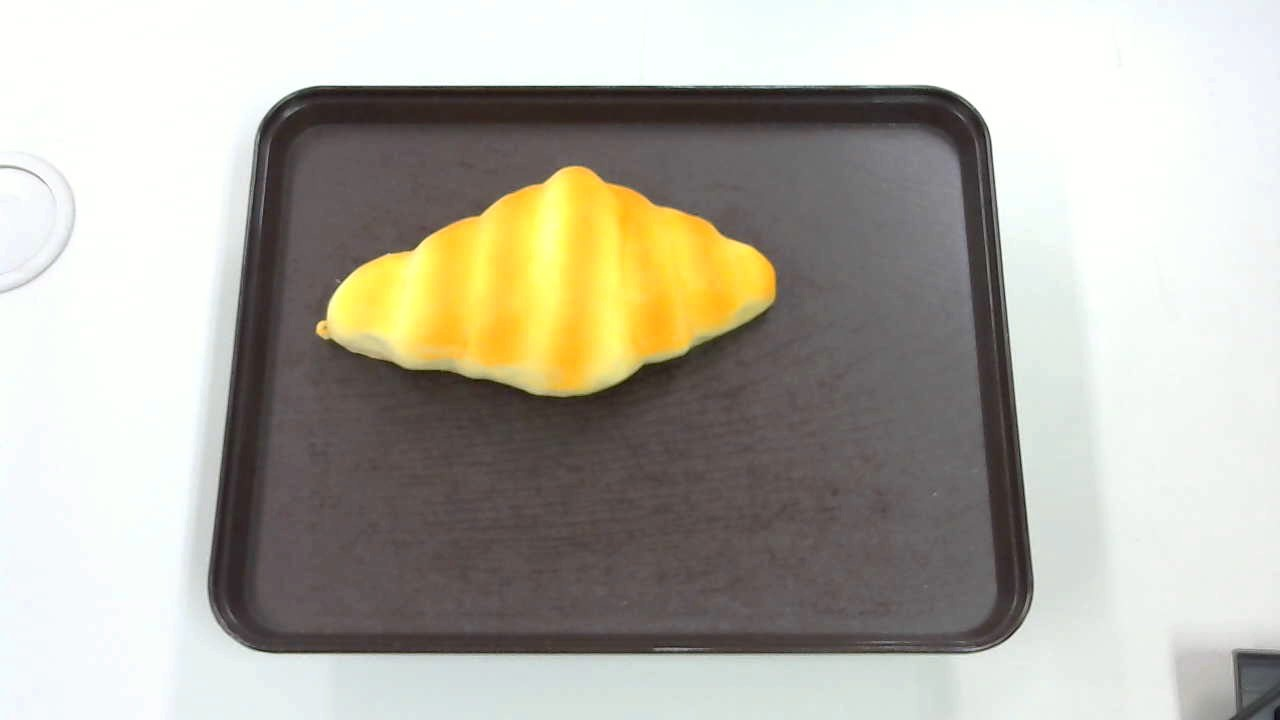croissant: (315, 166, 776, 398)
